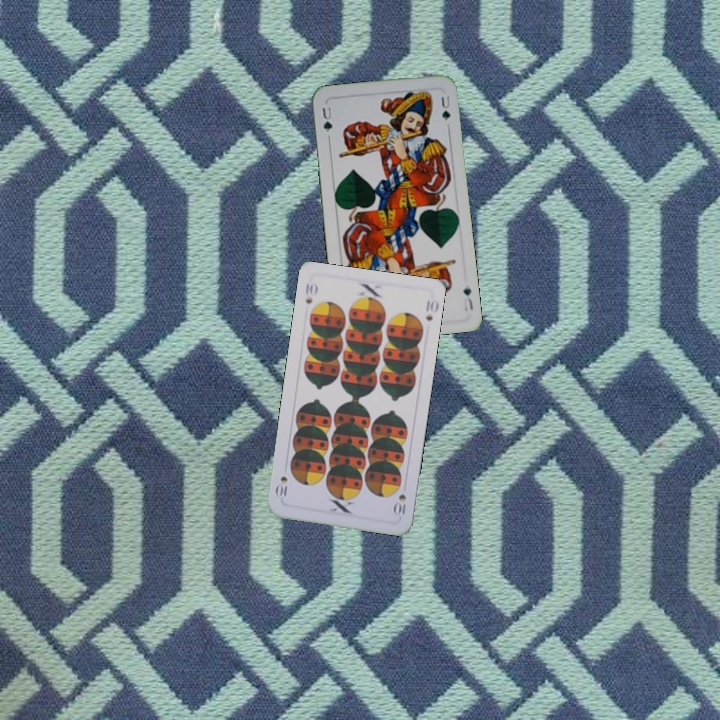GU: (318, 103, 335, 141), (459, 283, 475, 314)
S10: (301, 279, 320, 307), (390, 490, 408, 518)
